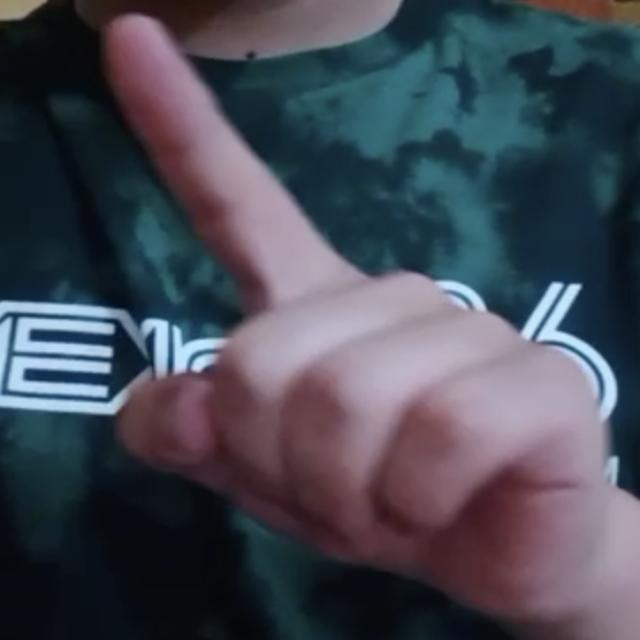Z: (82, 9, 620, 615)
